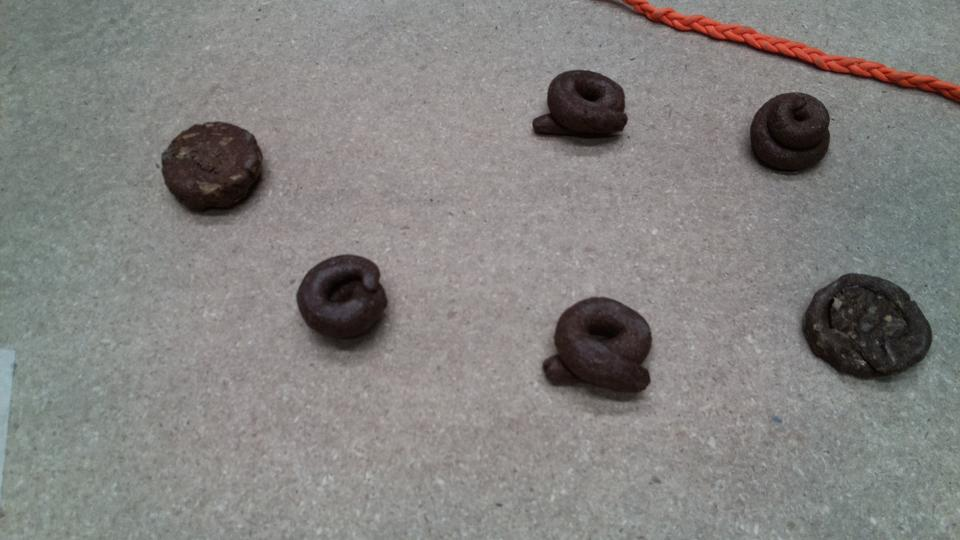poop: (796, 259, 936, 383), (541, 289, 661, 406), (149, 117, 269, 214), (290, 248, 396, 350), (531, 60, 631, 154), (747, 88, 837, 177)
